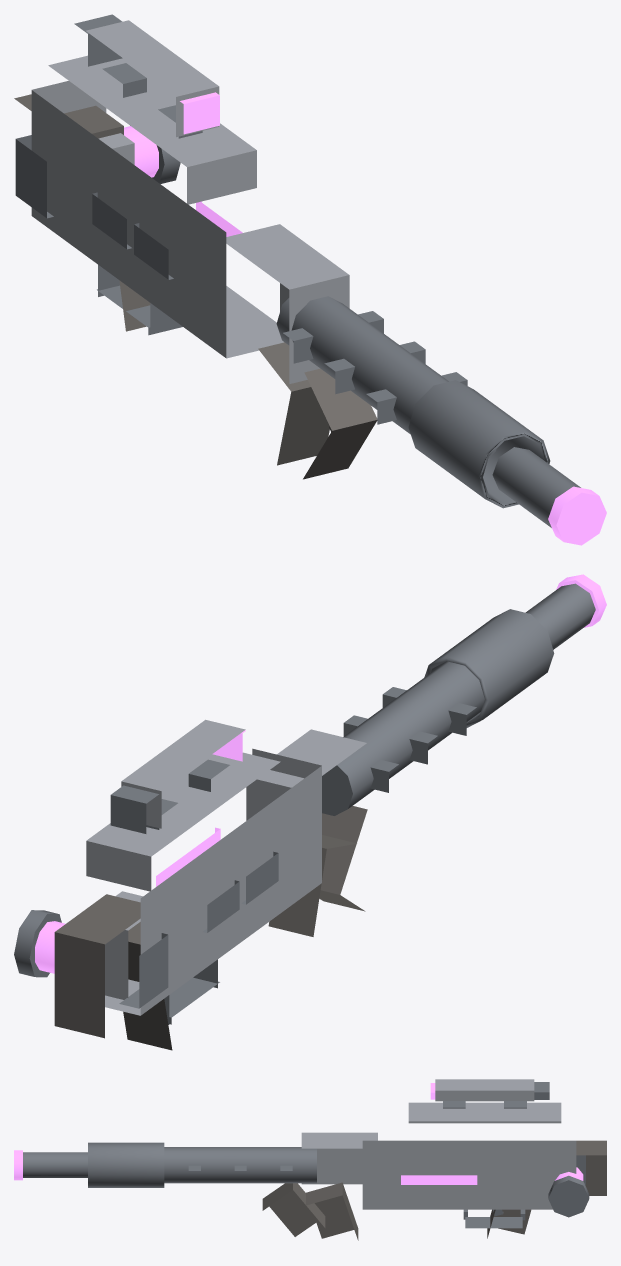
Rendered from SM_Weapon_PlasmaCarbine.glb.
3 renders of one model, top to bottom at view 1: azimuth 30°, elevation 25°; view 2: azimuth 150°, elevation 25°; view 3: azimuth 270°, elevation 25°, orthographic. The views are drawn at different scales.
Visible parts, largest first — view 1: SM_Weapon_PlasmaCarbine; view 2: SM_Weapon_PlasmaCarbine; view 3: SM_Weapon_PlasmaCarbine.
Part boxes in pixels (bbox=[...]): SM_Weapon_PlasmaCarbine: bbox=[14, 14, 606, 545]; SM_Weapon_PlasmaCarbine: bbox=[14, 574, 606, 1050]; SM_Weapon_PlasmaCarbine: bbox=[14, 1079, 606, 1240].
Bounding box in the file's own units: 0.1095 × 0.2318 × 0.777.
